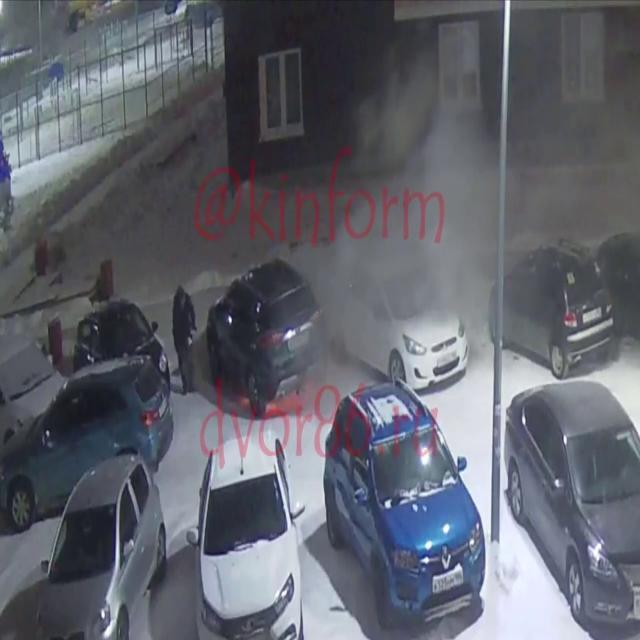Smoke: (309, 4, 640, 362)
